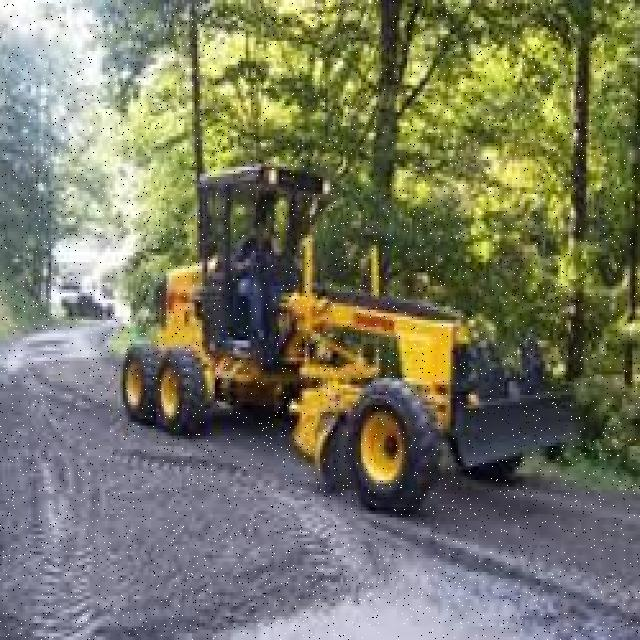Grader: (85, 122, 604, 528)
